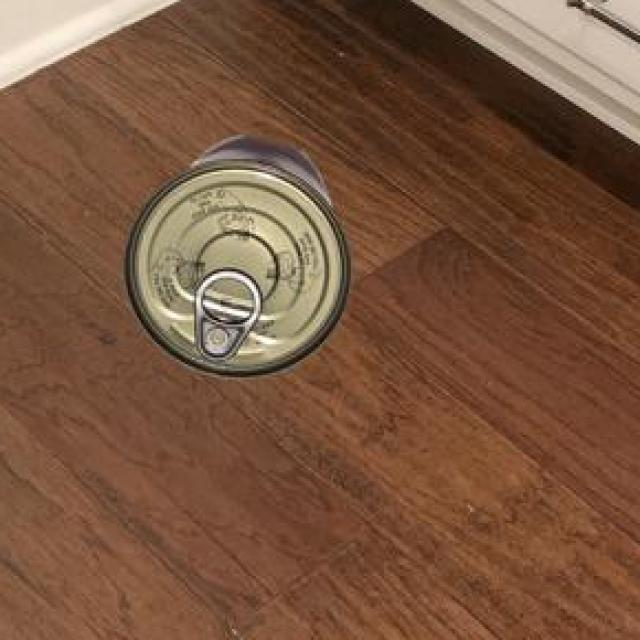logam: (127, 134, 354, 374)
